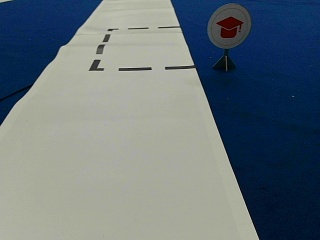school: (207, 4, 251, 48)
